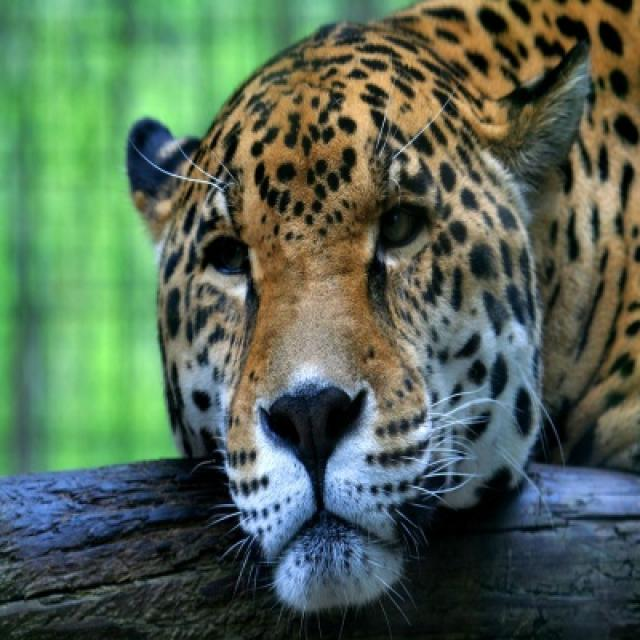Jaguar: (123, 0, 638, 619)
